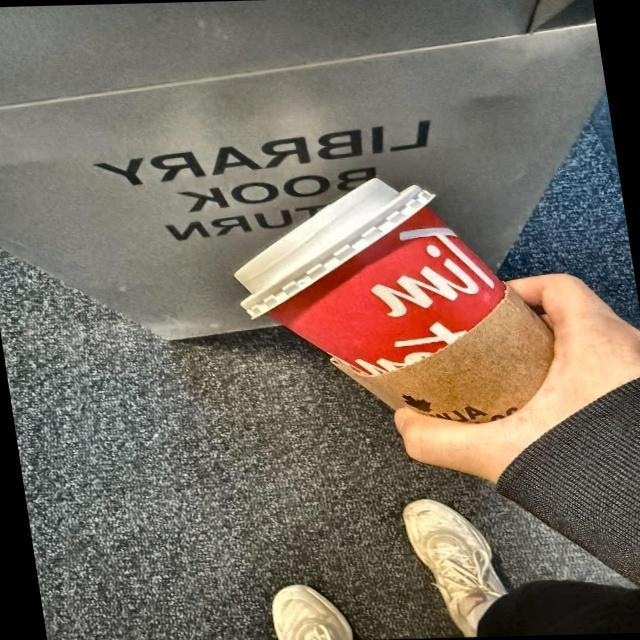timmies: (229, 170, 567, 428)
